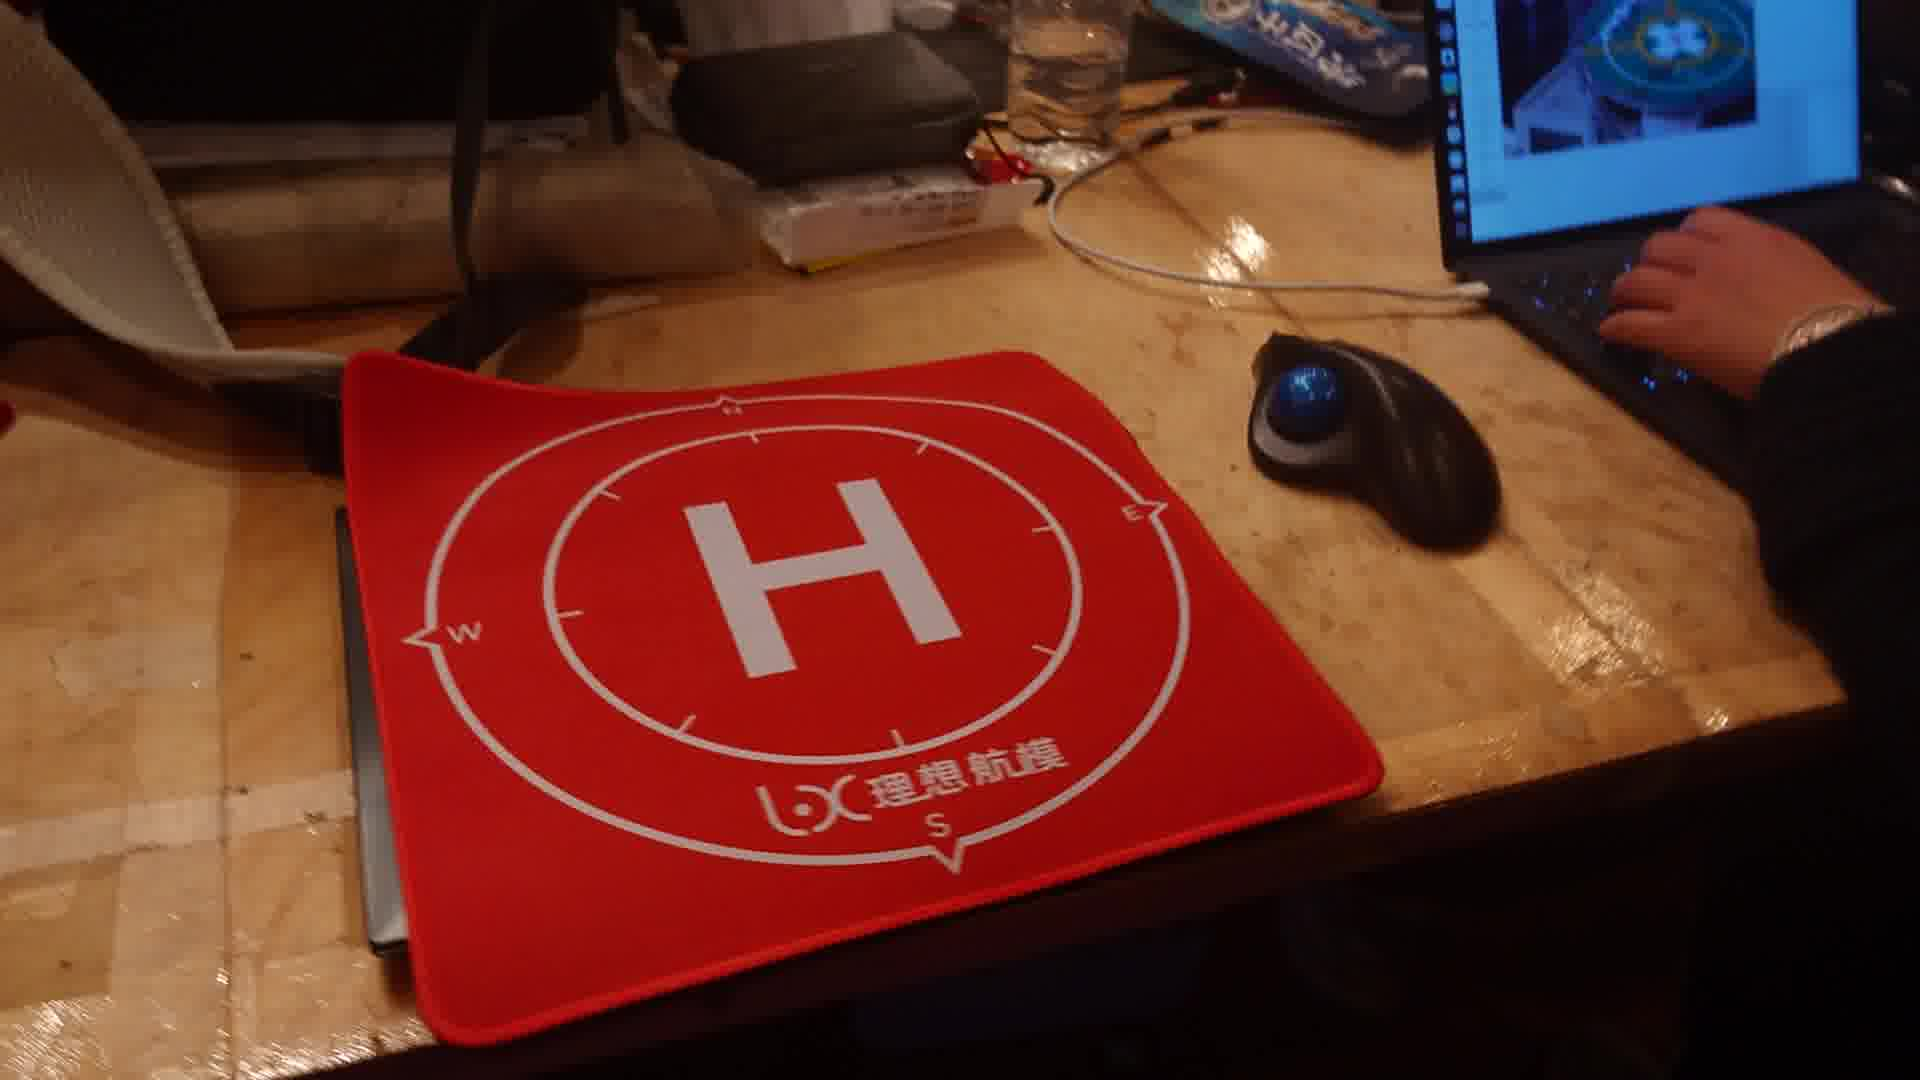H: (684, 477, 960, 680)
